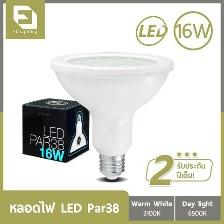book: (19, 94, 94, 169)
light_bulb: (45, 48, 177, 182)
